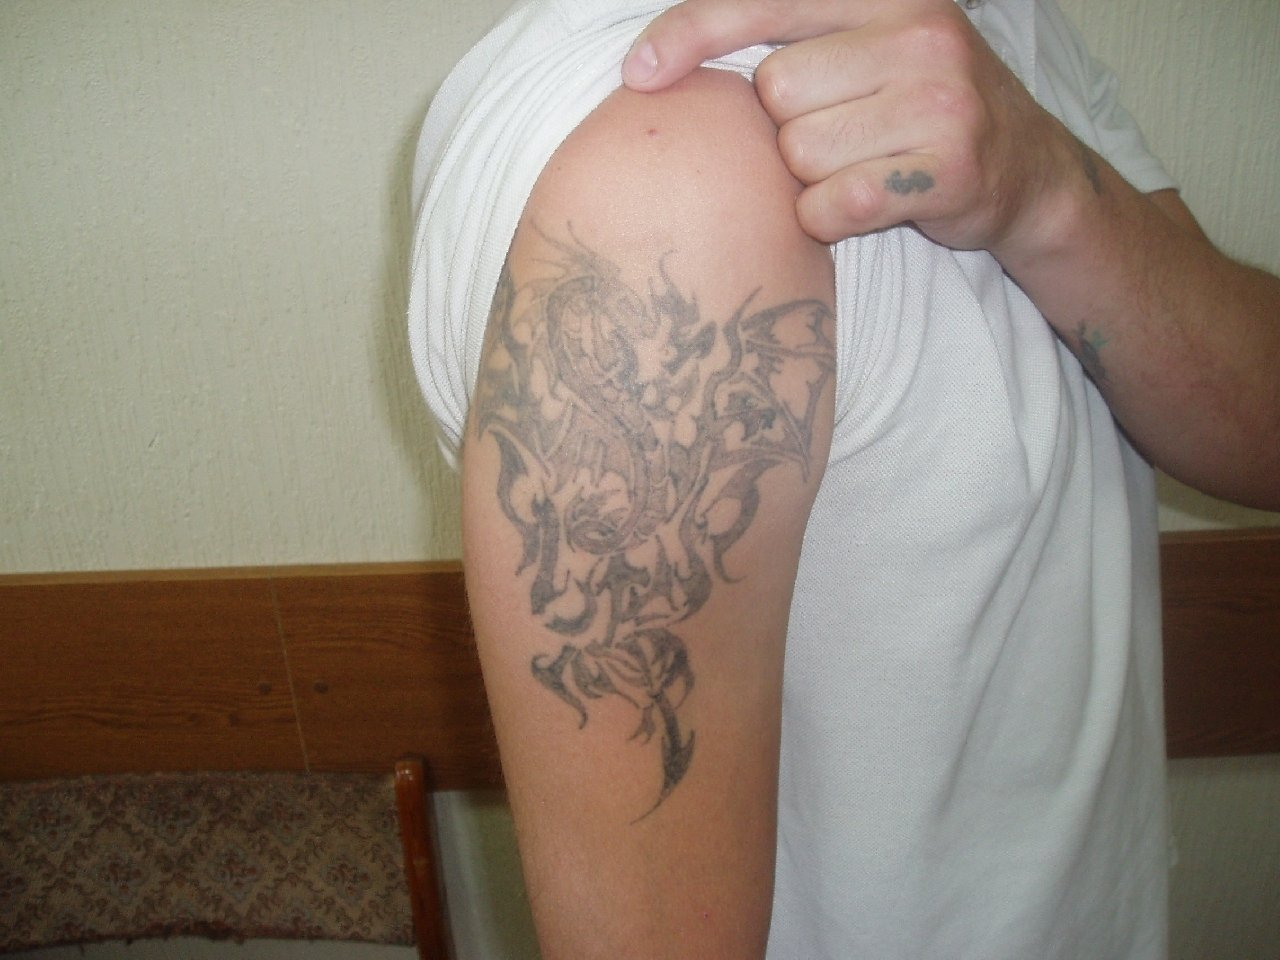tatu6_drakon: (449, 200, 860, 838)
